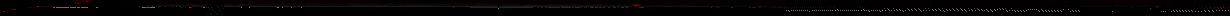Blue cone: (74, 2, 81, 4), (28, 7, 34, 8)
Yellow cone: (631, 4, 641, 7), (757, 6, 763, 8), (1155, 6, 1160, 8)
